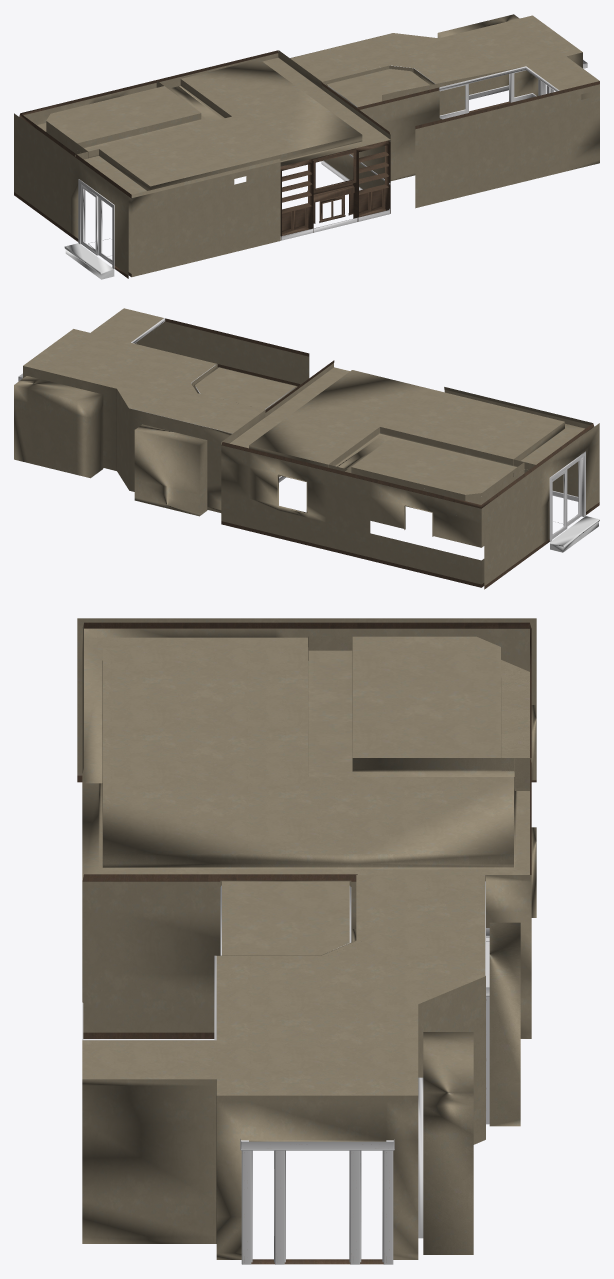
File: 01_primer_piso_walls.fbx
3 renders of one model, top to bottom at view 1: azimuth 30°, elevation 25°; view 2: azimuth 150°, elevation 25°; view 3: azimuth 270°, elevation 25°, orthographic. The views are drawn at different scales.
Visible parts, largest first — view 1: 40_Hom-Wall-Plaster-01_0.1_0_0.000, 40_Hom-Wood-Trim_0.1_0_0.001, 40_Hom-Trim-Basic_0.1_0_0.001, 40_Hom-Wood-Trim.material01_0.1_0_0.001, 40_Auc-Trim-Stone-Steps-01_0.1_0_0.001; view 2: 40_Hom-Wall-Plaster-01_0.1_0_0.000, 40_Hom-Wood-Trim_0.1_0_0.001, 40_Hom-Trim-Basic_0.1_0_0.001, 40_Auc-Trim-Stone-Steps-01_0.1_0_0.001; view 3: 40_Hom-Wall-Plaster-01_0.1_0_0.000, 40_Hom-Trim-Basic_0.1_0_0.001, 40_Hom-Wood-Trim_0.1_0_0.001.
Boxes of the visible parts, box(x1,y1,x2,y2) form: 40_Hom-Wall-Plaster-01_0.1_0_0.000: box(14, 14, 599, 276); 40_Hom-Wood-Trim_0.1_0_0.001: box(14, 50, 599, 278); 40_Hom-Trim-Basic_0.1_0_0.001: box(78, 60, 587, 268); 40_Hom-Wood-Trim.material01_0.1_0_0.001: box(307, 87, 510, 223); 40_Auc-Trim-Stone-Steps-01_0.1_0_0.001: box(64, 243, 114, 279); 40_Hom-Wall-Plaster-01_0.1_0_0.000: box(14, 308, 599, 585); 40_Hom-Wood-Trim_0.1_0_0.001: box(165, 318, 599, 589); 40_Hom-Trim-Basic_0.1_0_0.001: box(18, 318, 585, 541); 40_Auc-Trim-Stone-Steps-01_0.1_0_0.001: box(550, 516, 599, 552); 40_Hom-Wall-Plaster-01_0.1_0_0.000: box(77, 618, 536, 1259); 40_Hom-Trim-Basic_0.1_0_0.001: box(82, 881, 489, 1264); 40_Hom-Wood-Trim_0.1_0_0.001: box(77, 622, 536, 1038).
Bounding box in the file's own units: 21.35 × 8.25 × 3.8.
